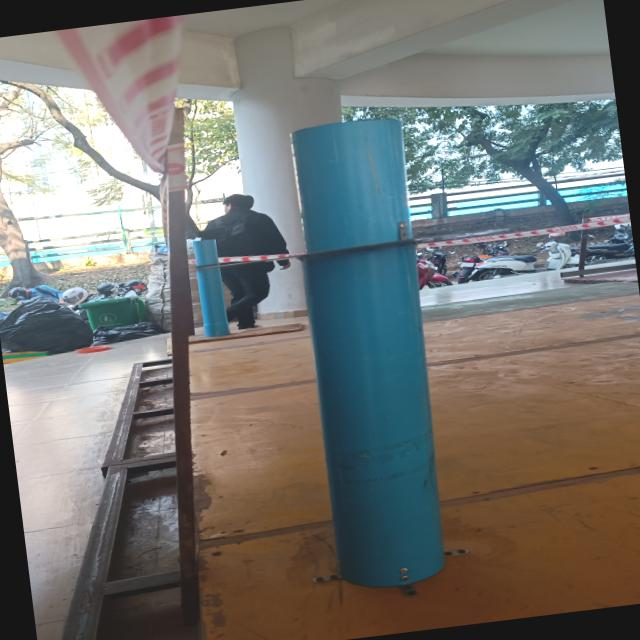pole: (176, 96, 536, 410)
